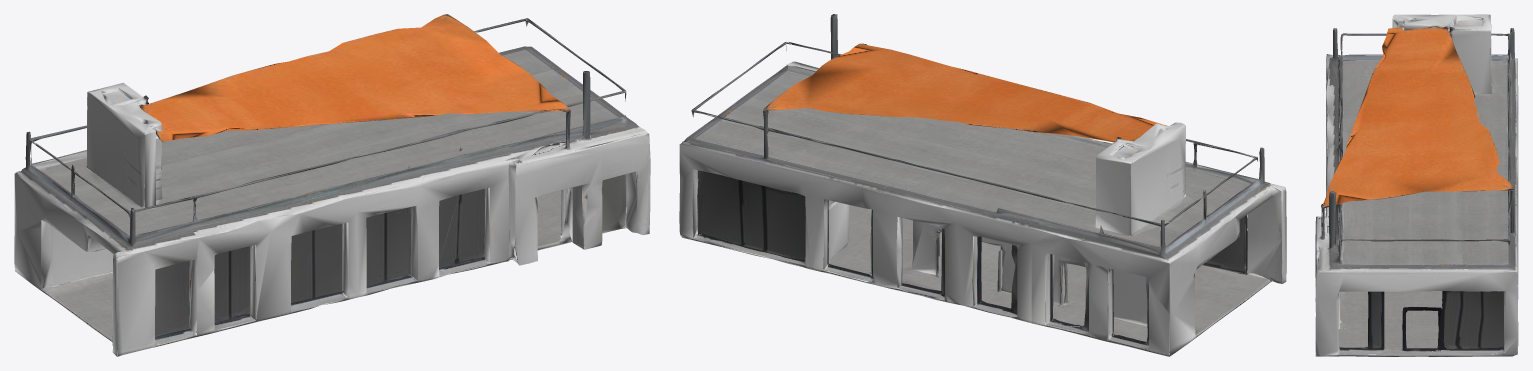
File: kueste_clubhaus.glb
3 renders of one model, left to right at view 1: azimuth 30°, elevation 25°; view 2: azimuth 150°, elevation 25°; view 3: azimuth 270°, elevation 25°, orthographic. The views are drawn at different scales.
Parts seen in each view (by area): view 1: Prop; view 2: Prop; view 3: Prop.
Boxes of the visible parts, bbox=[...] form: Prop: bbox=[14, 14, 650, 356]; Prop: bbox=[679, 14, 1286, 356]; Prop: bbox=[1315, 14, 1518, 356].
Size of the model in its own units: 3.03 by 1 by 1.19.
Materials: 1 (1 with a texture image).
